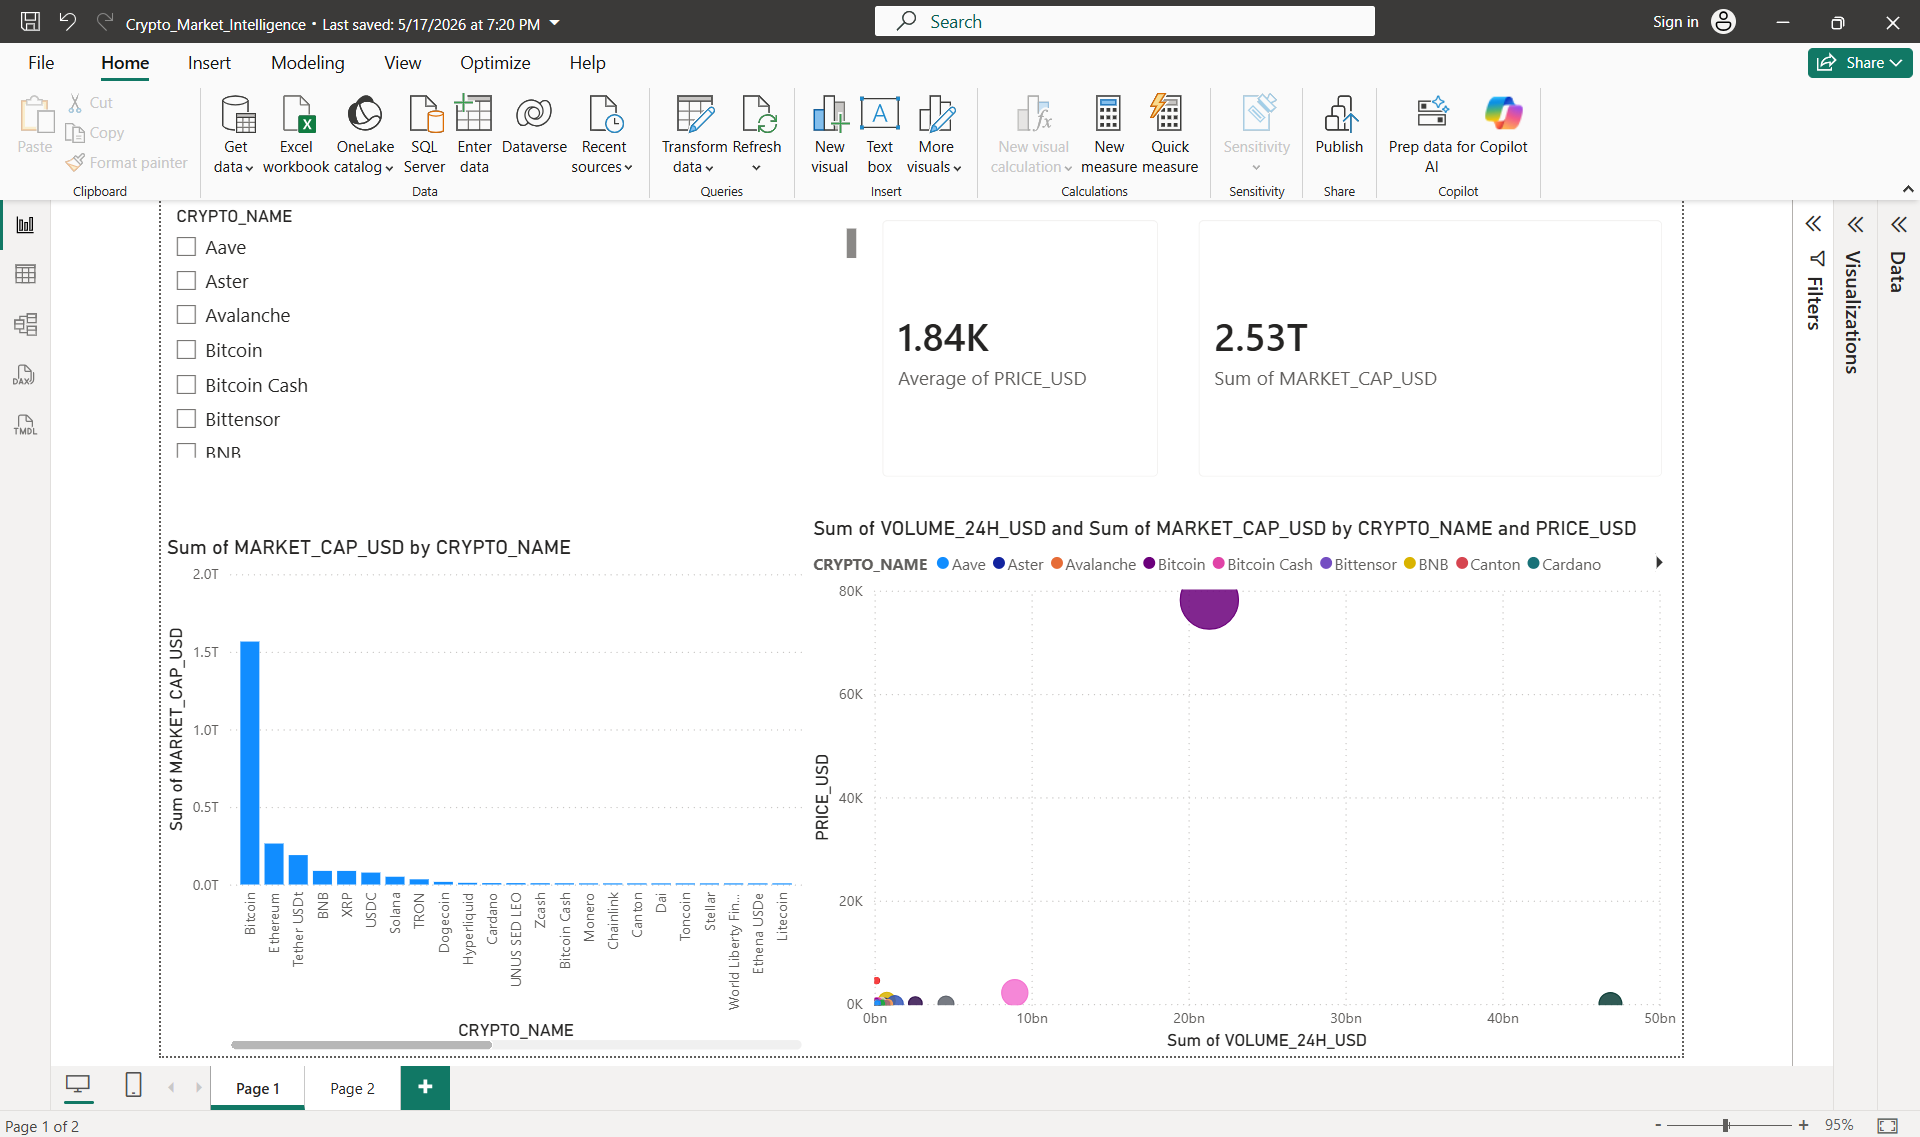

The dashboard page shown, as its layout file describes it:
{"tool":"powerbi","page":{"name":"Page 1","canvas":[1280,720],"ordinal":0},"visuals":[{"type":"clusteredColumnChart","fields":{"Category":["DIM_CRYPTO_ASSESTS.CRYPTO_NAME"],"Y":["Sum(FACT_CRYPTO_PRICES.MARKET_CAP_USD)"]},"box":[0,282,544,438],"z":0},{"type":"cardVisual","fields":{"Data":["Sum(FACT_CRYPTO_PRICES.MARKET_CAP_USD)"]},"box":[856,0,424,250],"z":1000},{"type":"cardVisual","fields":{"Data":["Avg(FACT_CRYPTO_PRICES.PRICE_USD)"]},"box":[590,0,266,250],"z":2000},{"type":"scatterChart","fields":{"X":["Sum(FACT_CRYPTO_PRICES.VOLUME_24H_USD)"],"Size":["Sum(FACT_CRYPTO_PRICES.MARKET_CAP_USD)"],"Series":["DIM_CRYPTO_ASSESTS.CRYPTO_NAME"],"Y":["FACT_CRYPTO_PRICES.PRICE_USD"]},"box":[544,266,736,454],"z":3000},{"type":"slicer","fields":{"Values":["DIM_CRYPTO_ASSESTS.CRYPTO_NAME"]},"box":[0,0,590,222],"z":4000}]}

Visuals, with their boxes on the page's 1280x720 design canvas (x1, y1, x2, y2). These are canvas units, not pixel positions in the 1920x1137 screenshot, which may show the page scaled, cropped or inside an application window:
clusteredColumnChart - DIM_CRYPTO_ASSESTS.CRYPTO_NAME x Sum(FACT_CRYPTO_PRICES.MARKET_CAP_USD): bbox=(0, 282, 544, 720)
cardVisual - Sum(FACT_CRYPTO_PRICES.MARKET_CAP_USD): bbox=(856, 0, 1280, 250)
cardVisual - Avg(FACT_CRYPTO_PRICES.PRICE_USD): bbox=(590, 0, 856, 250)
scatterChart - Sum(FACT_CRYPTO_PRICES.VOLUME_24H_USD) x Sum(FACT_CRYPTO_PRICES.MARKET_CAP_USD): bbox=(544, 266, 1280, 720)
slicer - DIM_CRYPTO_ASSESTS.CRYPTO_NAME: bbox=(0, 0, 590, 222)
